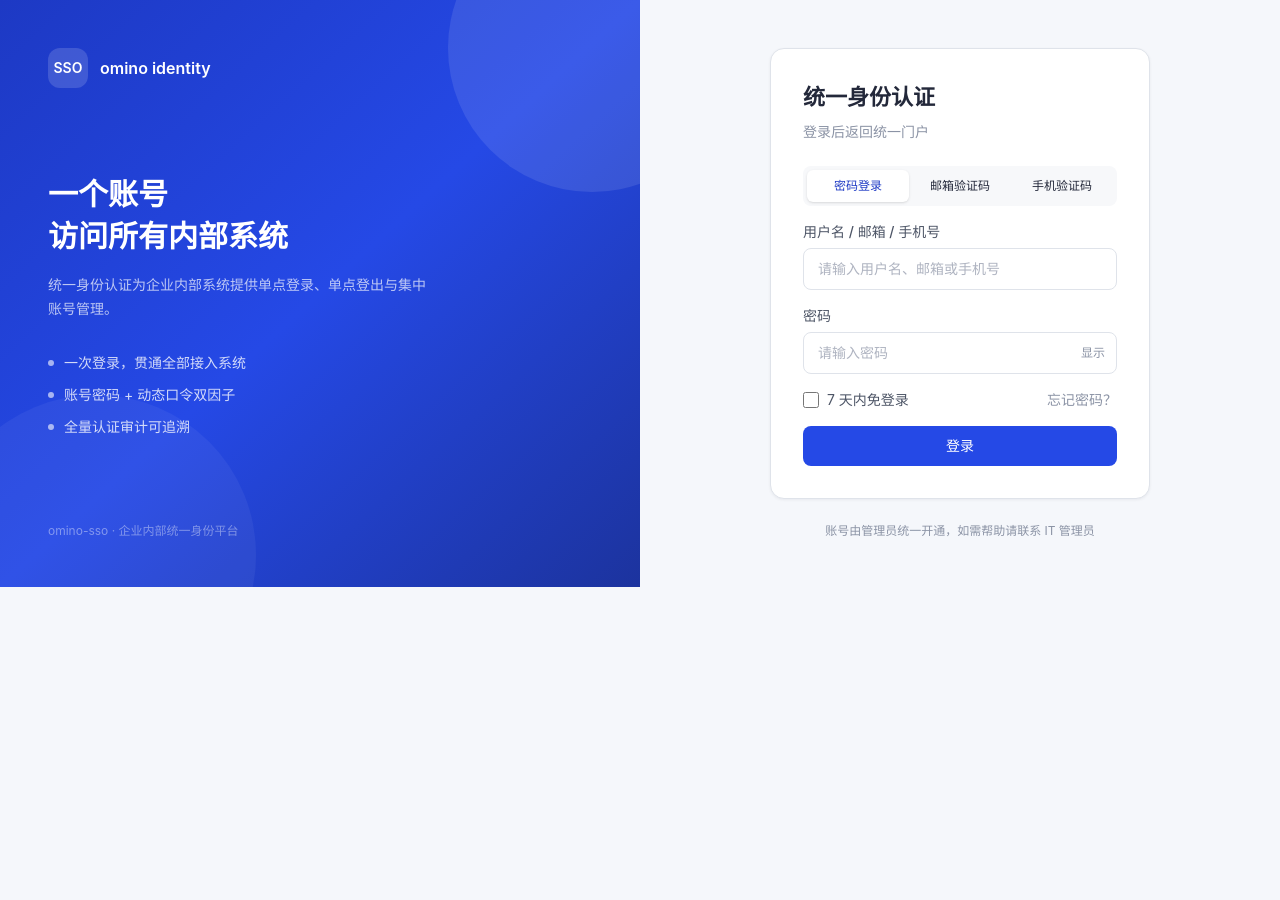
Test case: Login 登录方式切换 › 未填图形验证码时不发送短信/邮箱验证码
Click the button "邮箱验证码": coordinates (960, 186) [909,170,1011,202]
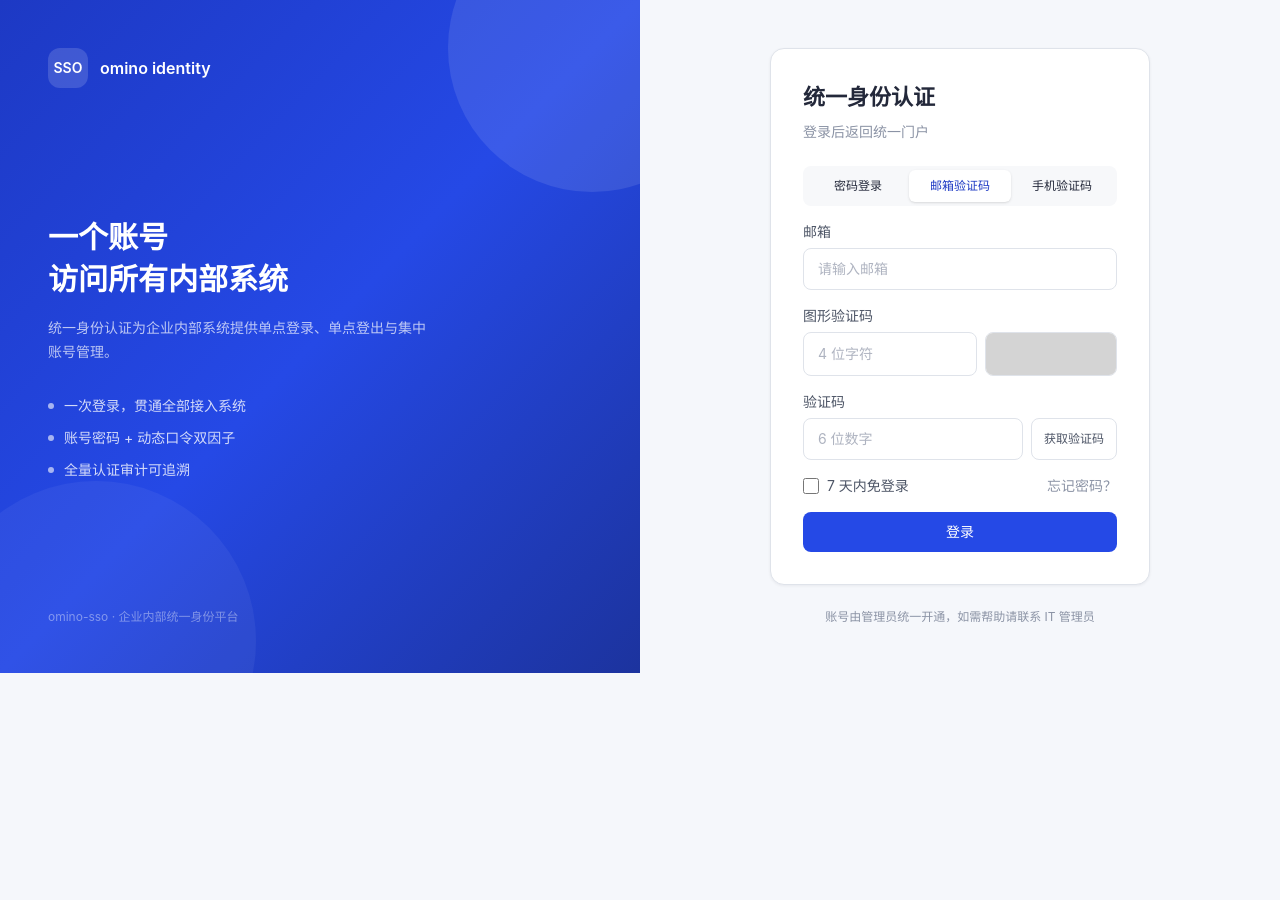
In the field with id "username": coordinates (960, 269) [803,248,1117,290], type "alice@example.com"
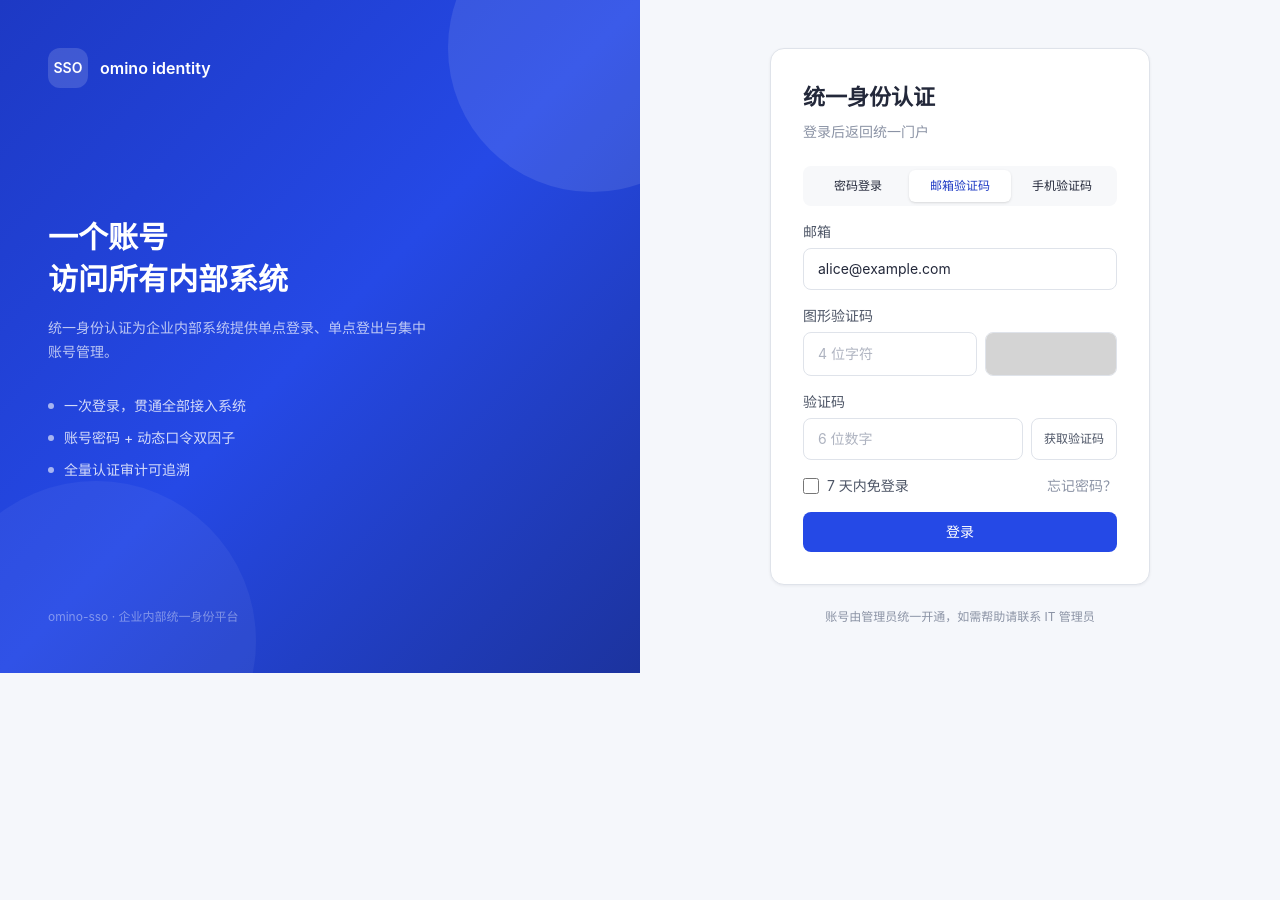
Click the button "获取验证码": coordinates (1074, 439) [1031,418,1117,460]
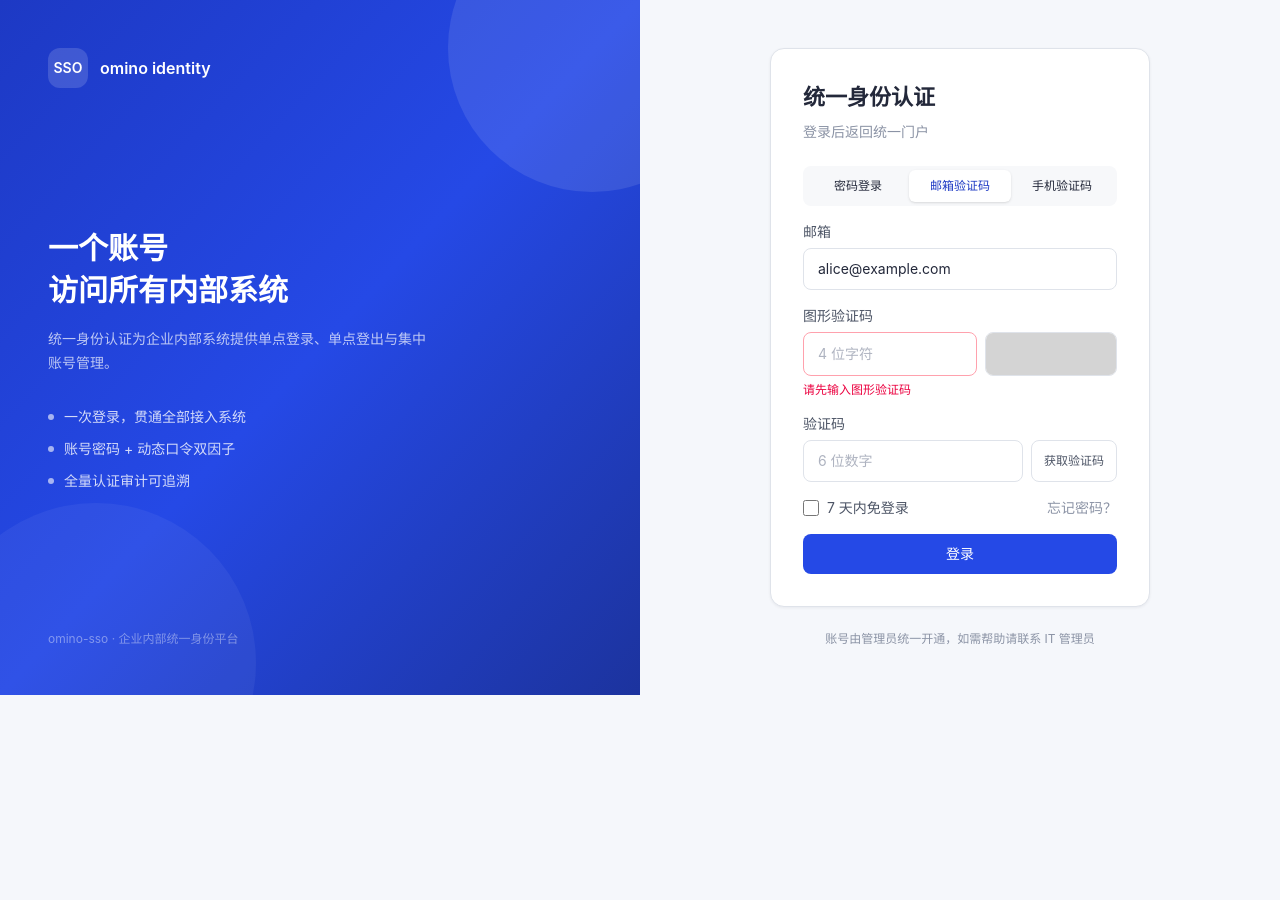
Check: the text "请先输入图形验证码" is shown, box [803,382,911,397]
